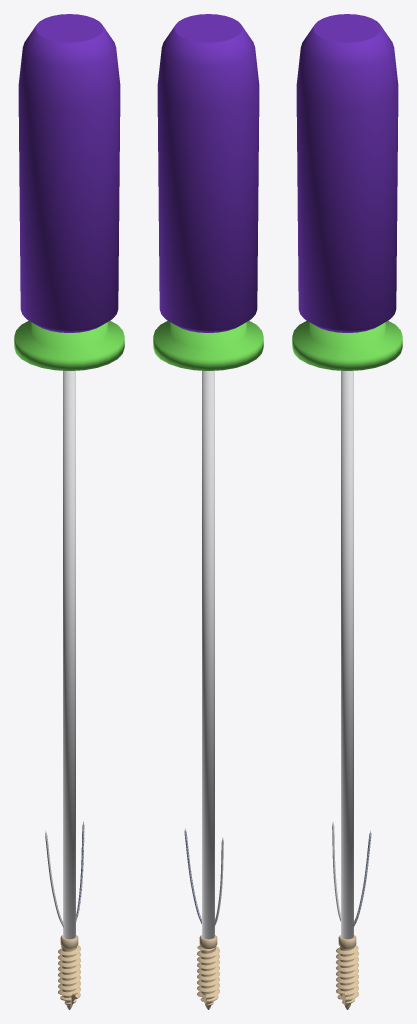
File: implanter-speedloc.lod1.glb
The picture shows the model from 3 angles, left to right: view 1: azimuth 30°, elevation 25°; view 2: azimuth 150°, elevation 25°; view 3: azimuth 330°, elevation 25°; orthographic projection.
Visible parts, largest first — view 1: handle, shaft, collar, anchor; view 2: handle, shaft, collar, anchor; view 3: handle, shaft, collar, anchor.
Boxes of the visible parts, box(x1,y1,x2,y2) form: handle: box(18, 14, 120, 332); shaft: box(63, 370, 75, 939); collar: box(14, 320, 124, 370); anchor: box(45, 821, 84, 1009); handle: box(157, 14, 259, 332); shaft: box(202, 370, 214, 939); collar: box(153, 320, 263, 370); anchor: box(184, 828, 223, 1009); handle: box(296, 14, 398, 332); shaft: box(341, 370, 353, 939); collar: box(292, 320, 402, 370); anchor: box(332, 821, 371, 1009).
Bounding box in the file's own units: 0.026 × 0.255 × 0.026.
Materials: 6 (2 with a texture image).
